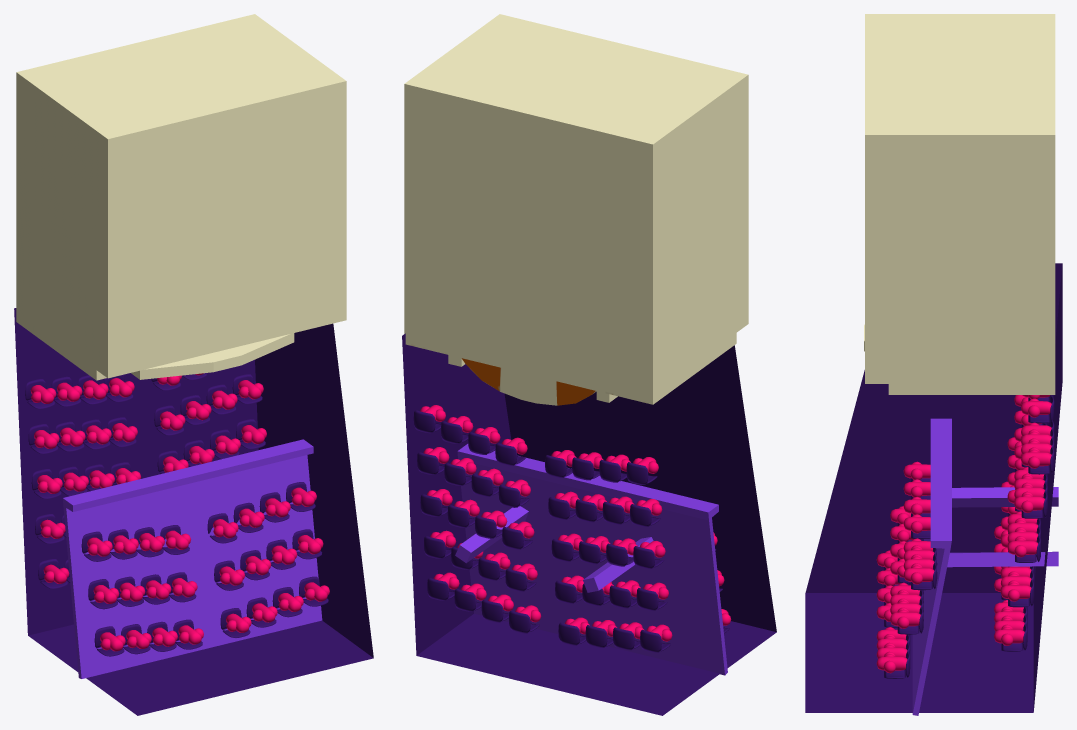
The model's file is Teatro.fbx.
3 renders of one model, left to right at view 1: azimuth 30°, elevation 25°; view 2: azimuth 150°, elevation 25°; view 3: azimuth 270°, elevation 25°, orthographic. The views are drawn at different scales.
Parts seen in each view (by area): view 1: Teatro base, Publico, Palco, Pollublico.001, Pollublico.002; view 2: Teatro base, Publico, Pollublico.002, Palco; view 3: Teatro base, Publico, Pollublico.002, Pollublico.001, Palco.
Part boxes in pixels (x1=…): Teatro base: x1=16, y1=14, x2=346, y2=380; Publico: x1=14, y1=308, x2=373, y2=715; Palco: x1=63, y1=439, x2=322, y2=678; Pollublico.001: x1=81, y1=482, x2=329, y2=656; Pollublico.002: x1=25, y1=373, x2=266, y2=588; Teatro base: x1=404, y1=14, x2=748, y2=405; Publico: x1=402, y1=333, x2=776, y2=715; Pollublico.002: x1=413, y1=405, x2=672, y2=652; Palco: x1=455, y1=444, x2=727, y2=675; Teatro base: x1=864, y1=14, x2=1055, y2=394; Publico: x1=805, y1=263, x2=1062, y2=712; Pollublico.002: x1=994, y1=395, x2=1054, y2=651; Pollublico.001: x1=876, y1=461, x2=937, y2=678; Palco: x1=912, y1=418, x2=1058, y2=715.
Bounding box in the file's own units: 1028 × 2230 × 897.
2 materials, 2 textured.
